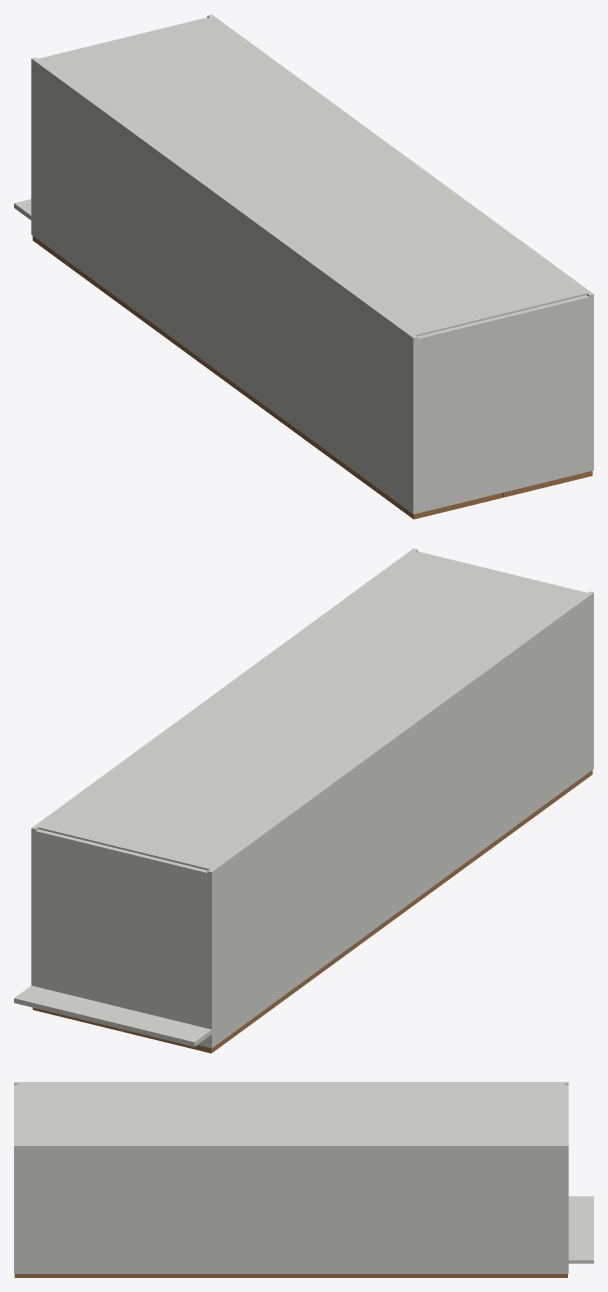
The model's file is M01_tall_cabinet.obj.
3 renders of one model, top to bottom at view 1: azimuth 30°, elevation 25°; view 2: azimuth 150°, elevation 25°; view 3: azimuth 270°, elevation 25°, orthographic. The views are drawn at different scales.
Visible parts, largest first — view 1: M01_tall_cabinet_Lateral_Esquerda, M01_tall_cabinet_Fundo, M01_tall_cabinet_Tampo_Interno, M01_tall_cabinet_Lateral_Direita, M01_tall_cabinet_Porta_1; view 2: M01_tall_cabinet_Lateral_Esquerda, M01_tall_cabinet_Fundo, M01_tall_cabinet_Base, M01_tall_cabinet_Rodape, M01_tall_cabinet_Lateral_Direita, M01_tall_cabinet_Porta_1; view 3: M01_tall_cabinet_Lateral_Direita, M01_tall_cabinet_Fundo, M01_tall_cabinet_Porta_2, M01_tall_cabinet_Rodape, M01_tall_cabinet_Lateral_Esquerda.
Part boxes in pixels (x1,y1,x2,y2): M01_tall_cabinet_Lateral_Esquerda: (31,57,417,514); M01_tall_cabinet_Fundo: (39,17,586,336); M01_tall_cabinet_Tampo_Interno: (417,295,589,513); M01_tall_cabinet_Lateral_Direita: (207,14,593,471); M01_tall_cabinet_Porta_1: (32,236,502,519); M01_tall_cabinet_Lateral_Esquerda: (207,591,593,1048); M01_tall_cabinet_Fundo: (38,551,586,870); M01_tall_cabinet_Base: (36,829,207,1047); M01_tall_cabinet_Rodape: (14,985,211,1046); M01_tall_cabinet_Lateral_Direita: (31,548,417,986); M01_tall_cabinet_Porta_1: (122,770,592,1053); M01_tall_cabinet_Lateral_Direita: (14,1144,568,1273); M01_tall_cabinet_Fundo: (17,1083,564,1144); M01_tall_cabinet_Porta_2: (14,1274,567,1277); M01_tall_cabinet_Rodape: (568,1196,593,1263); M01_tall_cabinet_Lateral_Esquerda: (14,1082,568,1084).
Size of the model in its own units: 600 by 598 by 2300.
